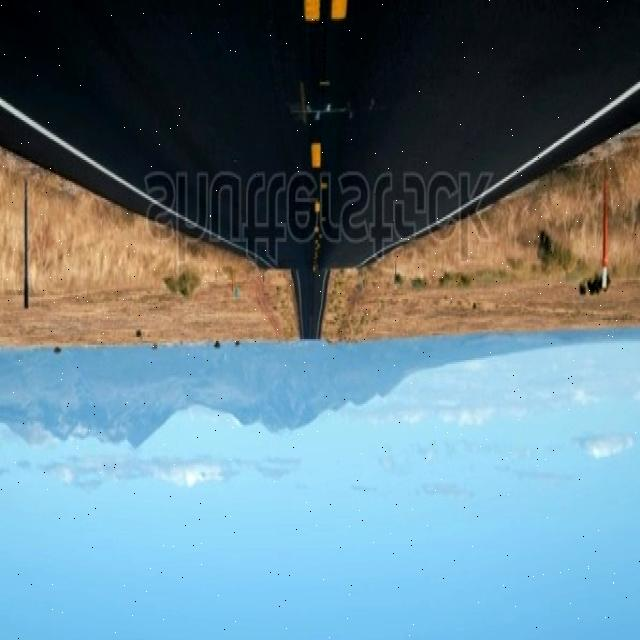lane: (479, 80, 640, 200), (0, 98, 150, 200), (304, 2, 319, 23), (331, 2, 347, 21), (310, 143, 321, 170)
road: (0, 4, 639, 339)
